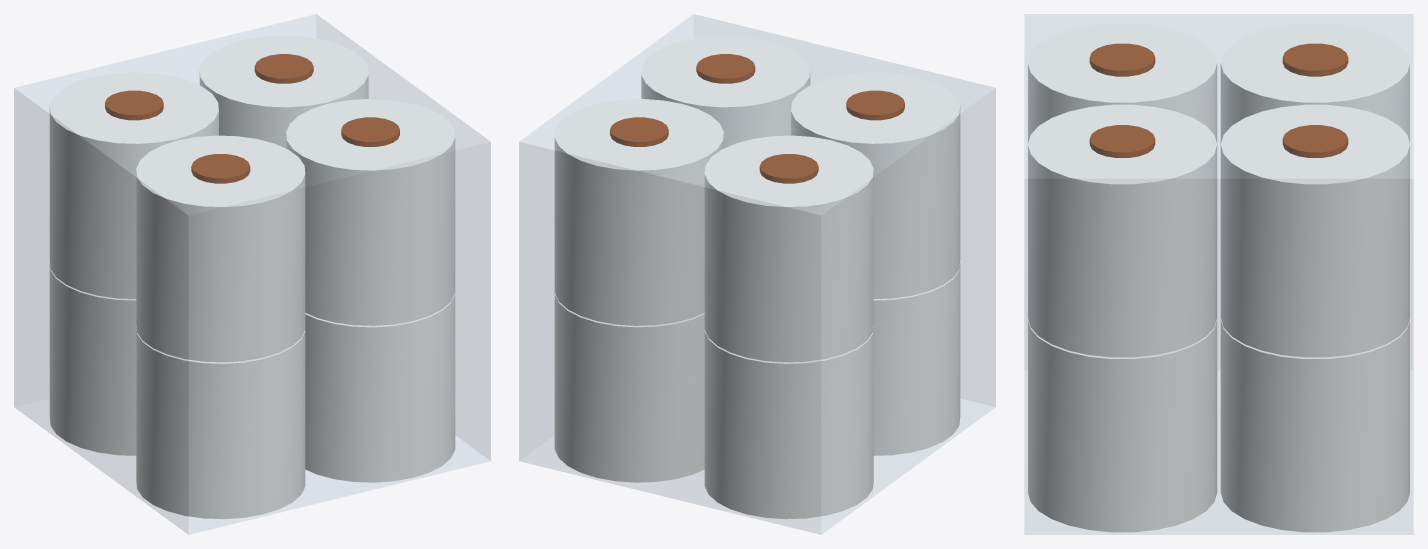
File: tissue-pack.glb
3 renders of one model, left to right at view 1: azimuth 30°, elevation 25°; view 2: azimuth 150°, elevation 25°; view 3: azimuth 270°, elevation 25°, orthographic. The views are drawn at different scales.
Parts seen in each view (by area): view 1: Poly_Wrap, Roll_FL_Top, Roll_FR_Top, Roll_FL, Roll_FR, Roll_BL_Top, Roll_BL, Roll_BR_Top, Core_BL, Core_FL, Core_BR, Core_FR; view 2: Poly_Wrap, Roll_BL_Top, Roll_BR_Top, Roll_BL, Roll_BR, Roll_FL_Top, Roll_FL, Roll_FR_Top, Core_FL, Core_FR, Core_BL, Core_BR; view 3: Poly_Wrap, Roll_FR_Top, Roll_BR_Top, Roll_FR, Roll_BR, Roll_FL_Top, Roll_BL_Top, Core_FL, Core_BL, Core_FR, Core_BR.
Boxes of the visible parts, x1,y1,x2,y2 form: Poly_Wrap: [14, 14, 490, 534]; Roll_FL_Top: [136, 135, 305, 362]; Roll_FR_Top: [286, 99, 455, 325]; Roll_FL: [136, 326, 305, 519]; Roll_FR: [305, 294, 455, 482]; Roll_BL_Top: [49, 72, 218, 298]; Roll_BL: [49, 262, 136, 455]; Roll_BR_Top: [199, 35, 368, 148]; Core_BL: [105, 90, 163, 120]; Core_FL: [191, 154, 250, 183]; Core_BR: [254, 54, 313, 83]; Core_FR: [341, 117, 399, 146]; Poly_Wrap: [519, 14, 995, 534]; Roll_BL_Top: [704, 135, 873, 362]; Roll_BR_Top: [554, 99, 723, 325]; Roll_BL: [704, 326, 873, 519]; Roll_BR: [554, 294, 704, 482]; Roll_FL_Top: [791, 72, 960, 298]; Roll_FL: [873, 262, 960, 455]; Roll_FR_Top: [641, 35, 810, 148]; Core_FL: [846, 90, 904, 120]; Core_FR: [696, 54, 755, 83]; Core_BL: [759, 154, 818, 183]; Core_BR: [610, 117, 668, 146]; Poly_Wrap: [1024, 14, 1413, 534]; Roll_FR_Top: [1028, 104, 1217, 357]; Roll_BR_Top: [1220, 104, 1409, 357]; Roll_FR: [1028, 319, 1217, 532]; Roll_BR: [1220, 319, 1409, 532]; Roll_FL_Top: [1028, 23, 1217, 143]; Roll_BL_Top: [1220, 23, 1409, 143]; Core_FL: [1089, 43, 1155, 76]; Core_BL: [1282, 43, 1348, 76]; Core_FR: [1089, 125, 1155, 157]; Core_BR: [1282, 125, 1348, 157].
Size of the model in its own units: 0.214 by 0.216 by 0.214.
